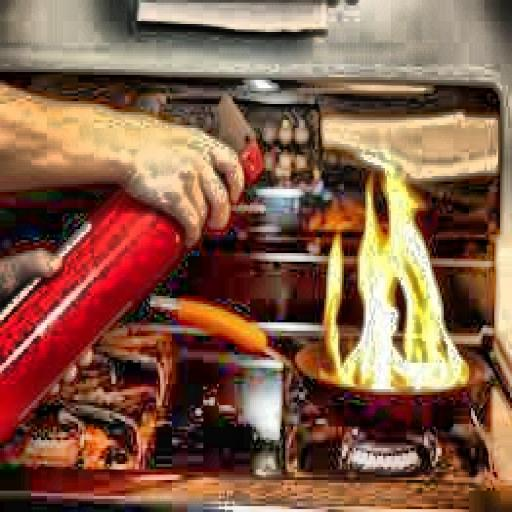fire: (312, 173, 482, 387)
